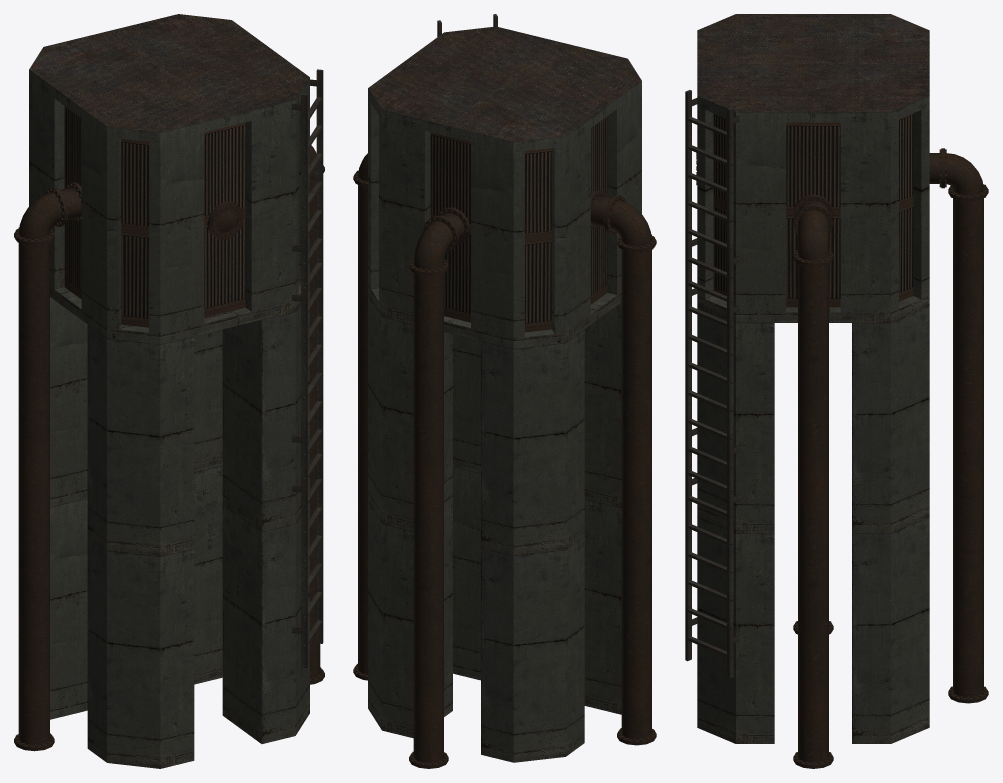
File: boiler_hx_4.obj
3 views of the same model, side by side, from view 1: azimuth 30°, elevation 25°; view 2: azimuth 150°, elevation 25°; view 3: azimuth 270°, elevation 25° (orthographic). The views are drawn at different scales.
Visible parts, largest first — view 1: boiler_hx_4; view 2: boiler_hx_4; view 3: boiler_hx_4.
Boxes of the visible parts, x1,y1,x2,y2 form: boiler_hx_4: [14, 14, 324, 768]; boiler_hx_4: [353, 14, 656, 768]; boiler_hx_4: [685, 14, 988, 768].
Bounding box in the file's own units: 4.52 × 9.1 × 3.91.
